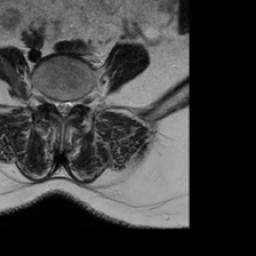CCS_stenosis: (60, 95, 66, 122)
LFS_stenosis: (73, 92, 80, 112)
LLS_normal: (66, 95, 73, 115)
RFS_stenosis: (46, 91, 54, 111)
RLS_stenosis: (54, 94, 61, 114)
